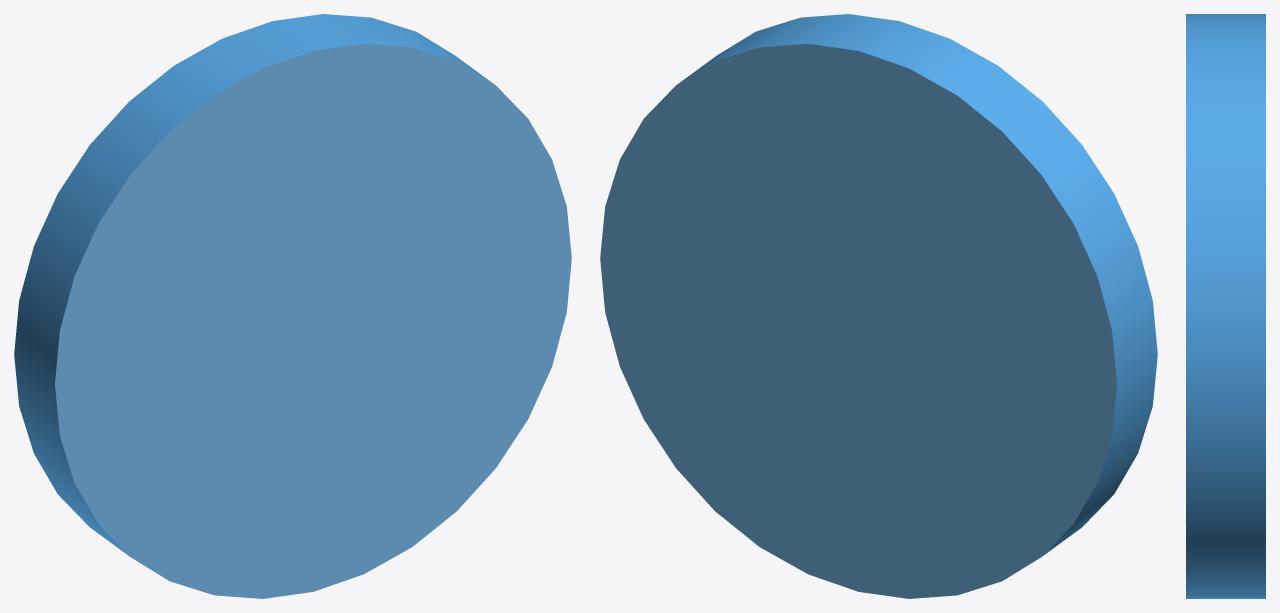
The model's file is D_FBX_03_Pin.fbx.
3 renders of one model, left to right at view 1: azimuth 30°, elevation 25°; view 2: azimuth 150°, elevation 25°; view 3: azimuth 270°, elevation 25°, orthographic.
Parts seen in each view (by area): view 1: D_FBX_03_Pin; view 2: D_FBX_03_Pin; view 3: D_FBX_03_Pin.
Part boxes in pixels (bbox=[...]): D_FBX_03_Pin: bbox=[14, 14, 571, 598]; D_FBX_03_Pin: bbox=[600, 14, 1157, 598]; D_FBX_03_Pin: bbox=[1186, 14, 1265, 598].
Bounding box in the file's own units: 63.74 × 63.74 × 8.71.
